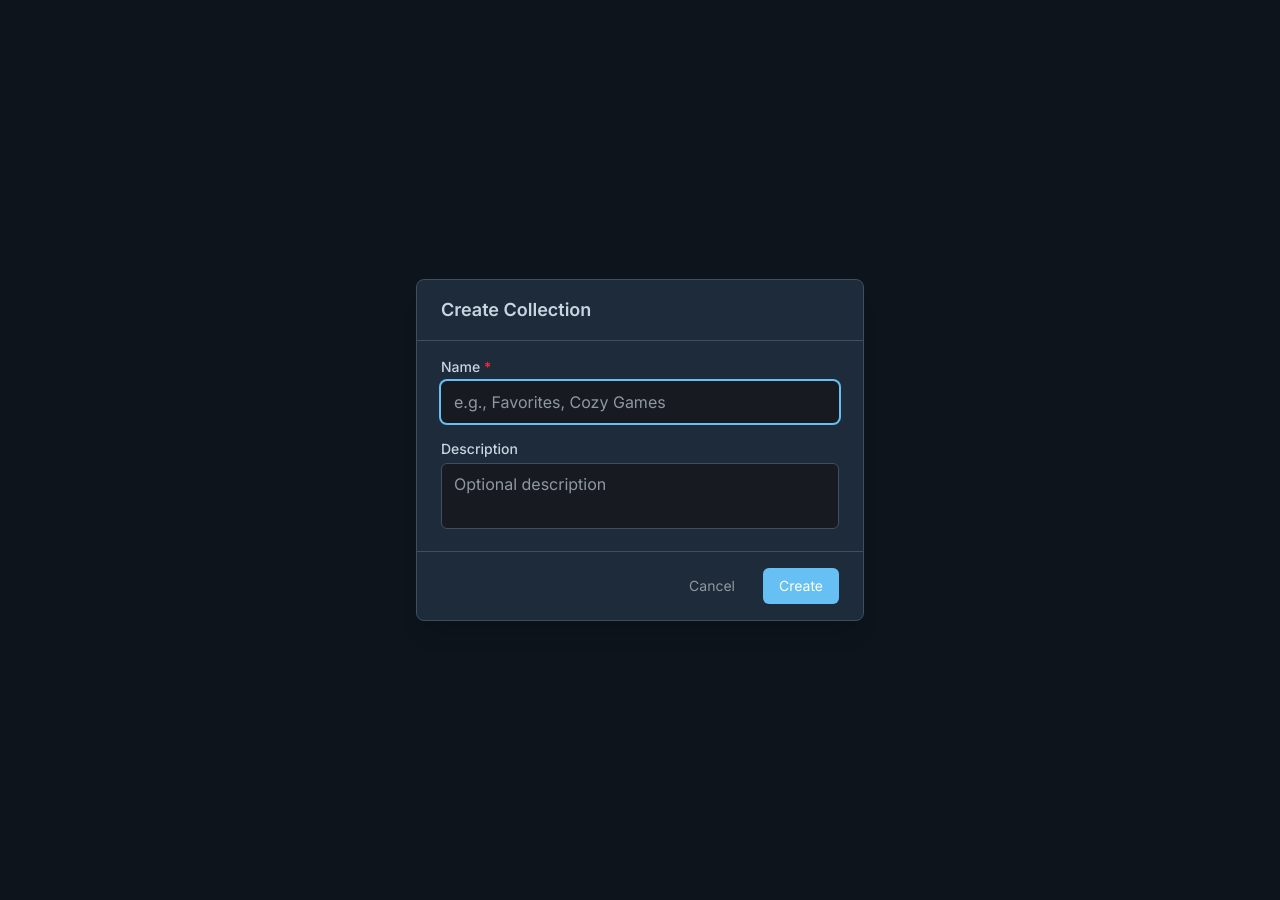
CollectionModal › form submission › should show error when name is empty
The image size is (1280, 900).
Click the button with test id "collection-save": (801, 586) [763,568,839,604]
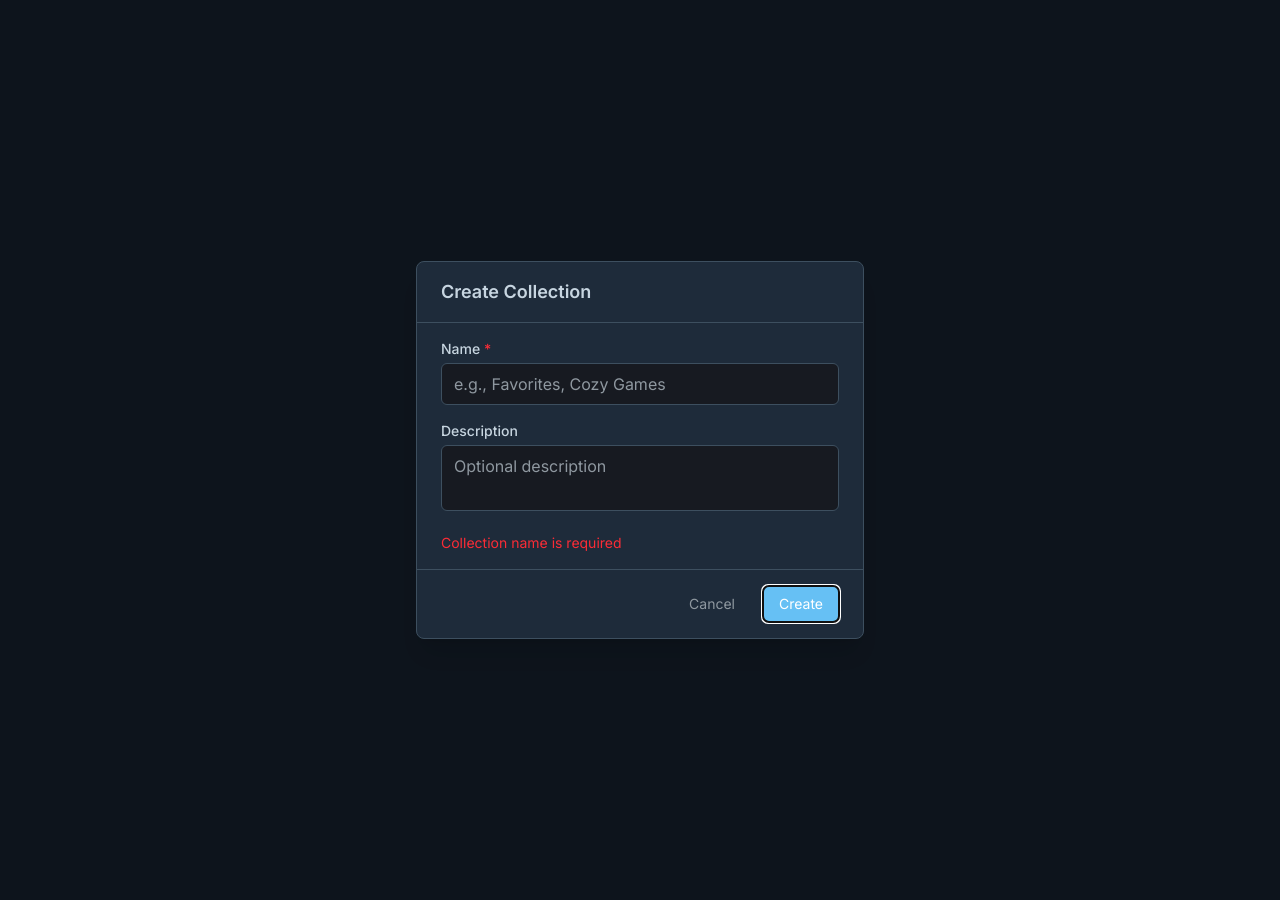
Check: the text with test id "collection-error" reads "Collection name is required", box [441,534,622,551]
